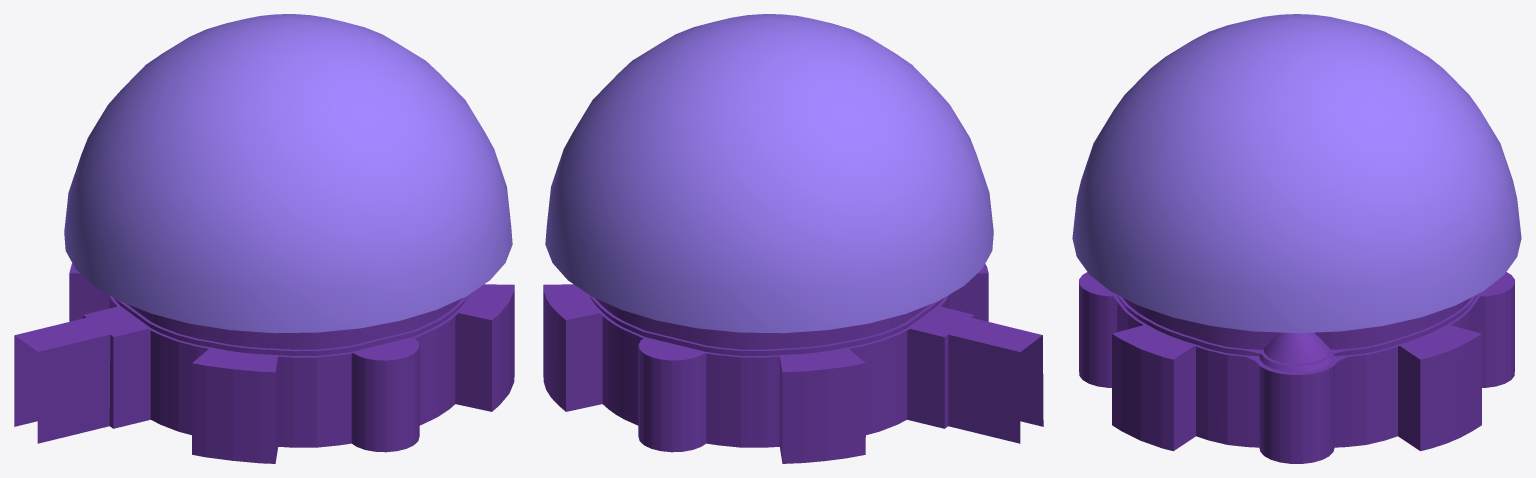
The model's file is low_all.fbx.
The picture shows the model from 3 angles, left to right: view 1: azimuth 30°, elevation 25°; view 2: azimuth 150°, elevation 25°; view 3: azimuth 270°, elevation 25°; orthographic projection.
Parts seen in each view (by area): view 1: ceilling, 1f_wall1, 2f_wall1, 2f_wall2; view 2: ceilling, 1f_wall1, 2f_wall1, 2f_wall2; view 3: ceilling, 1f_wall1, 2f_wall1, 2f_wall2.
Boxes of the visible parts, box(x1,y1,x2,y2) form: ceilling: box(64, 14, 512, 333); 1f_wall1: box(14, 263, 514, 463); 2f_wall1: box(114, 296, 468, 355); 2f_wall2: box(109, 291, 473, 357); ceilling: box(545, 14, 993, 333); 1f_wall1: box(543, 264, 1043, 463); 2f_wall1: box(589, 295, 943, 355); 2f_wall2: box(584, 292, 948, 357); ceilling: box(1072, 14, 1521, 333); 1f_wall1: box(1079, 272, 1514, 463); 2f_wall1: box(1117, 295, 1476, 372); 2f_wall2: box(1114, 293, 1479, 374).
Bounding box in the file's own units: 4454 × 3127 × 3784.
